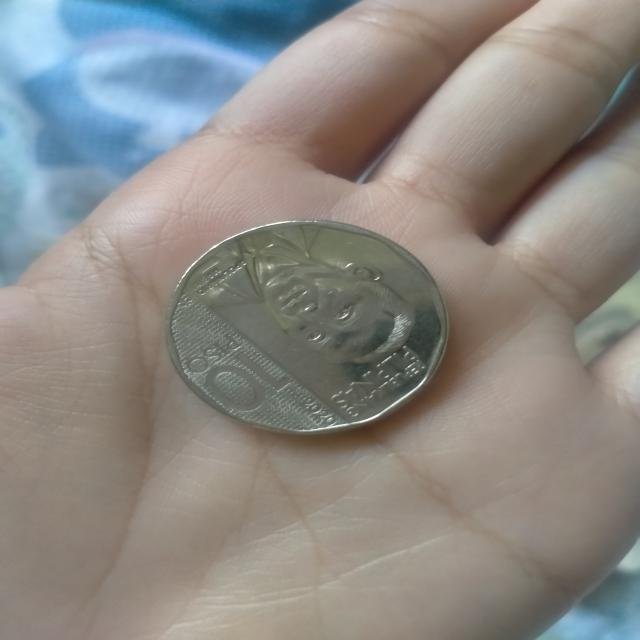10_New_Front: (200, 232, 416, 408)
